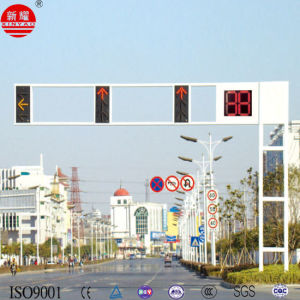stopForward: (94, 85, 110, 124), (174, 84, 189, 124)
warningLeft: (15, 85, 31, 124)
